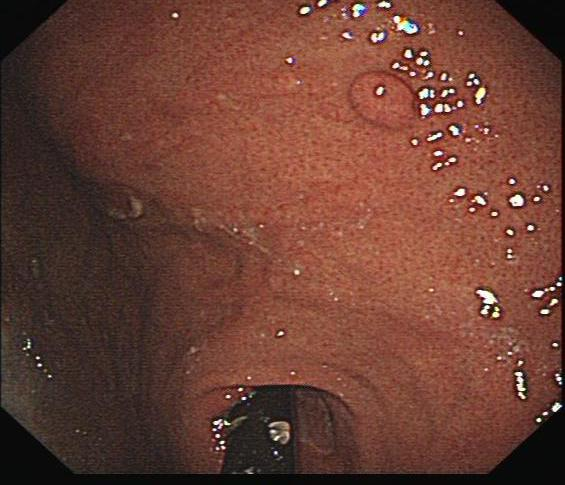Polyp: (332, 66, 422, 136)
